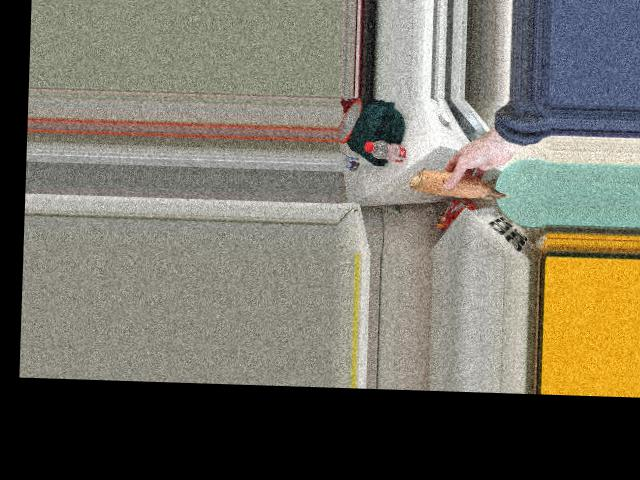sweet_potato: (415, 170, 505, 198)
